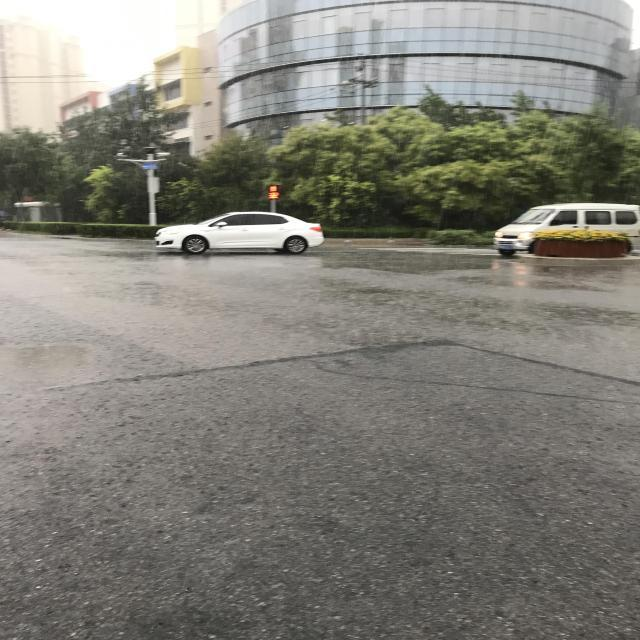car: (200, 0, 259, 147), (209, 314, 254, 486)
